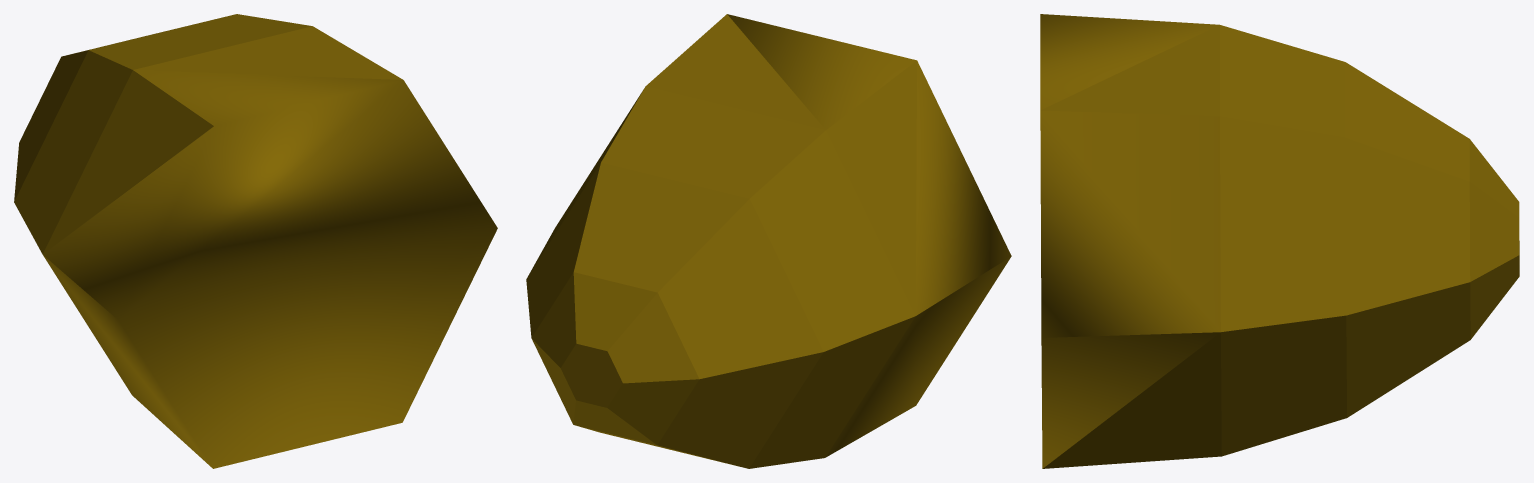
The model's file is Bullet.fbx.
3 views of the same model, side by side, from view 1: azimuth 30°, elevation 25°; view 2: azimuth 150°, elevation 25°; view 3: azimuth 270°, elevation 25° (orthographic). The views are drawn at different scales.
Parts seen in each view (by area): view 1: Cube.002; view 2: Cube.002; view 3: Cube.002.
Part boxes in pixels (x1,y1,x2,y2): Cube.002: [14, 14, 497, 468]; Cube.002: [526, 14, 1011, 468]; Cube.002: [1040, 14, 1519, 468].
Bounding box in the file's own units: 0.9153 × 0.7927 × 0.9603.
